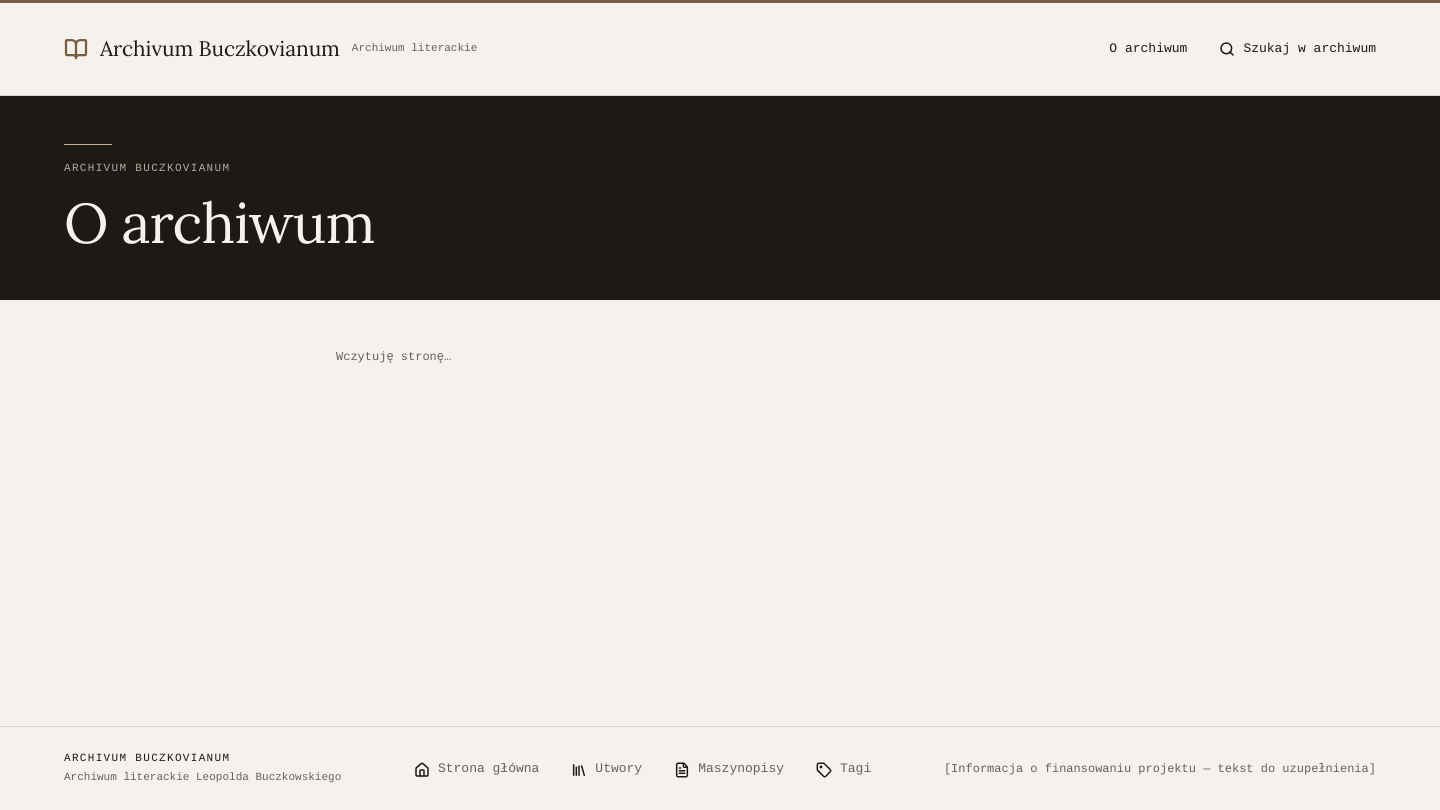
SiteLayout › US-RA-14 AC1: submitting the header field opens the search page with the query
Type " Dezerter " into the dropdown labelled "Szukaj w archiwum" at (1310, 49), box [1243,41,1376,58]
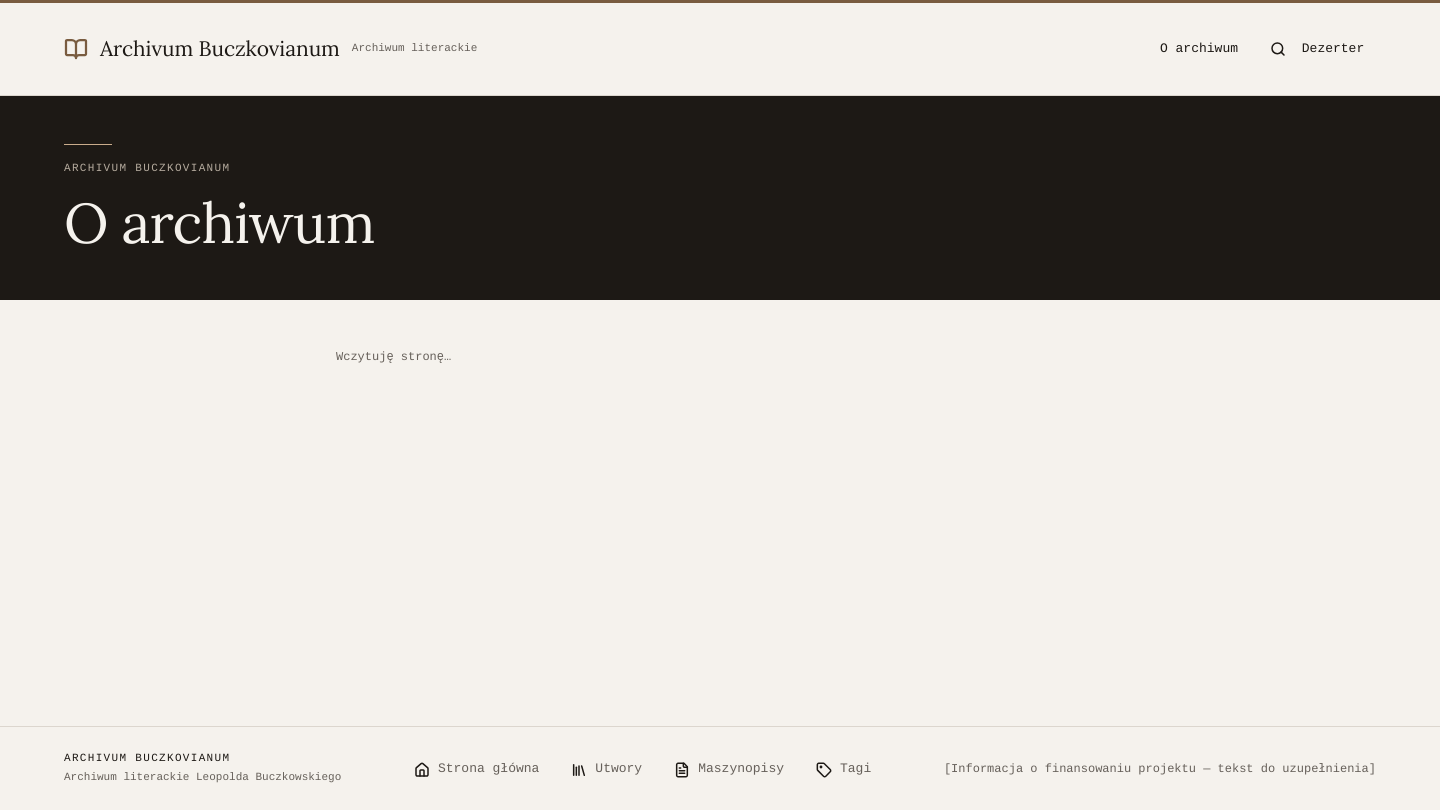
Submit the form, box [1270,41,1376,58]
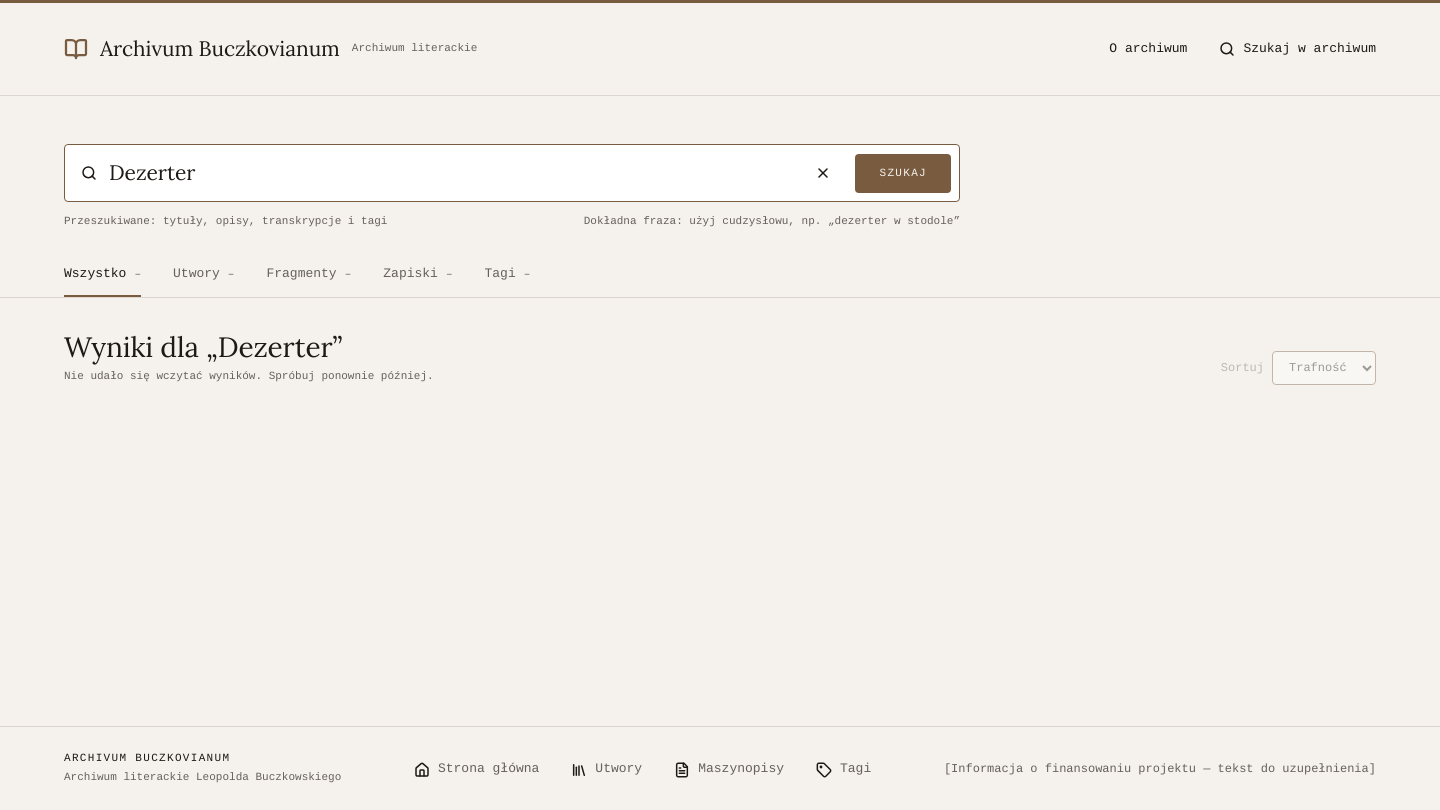
Now the dropdown named "Szukaj w archiwum" holds "Dezerter", box [109,159,792,188]
Now the dropdown labelled "Szukaj w archiwum" is empty, box [1243,41,1376,58]
